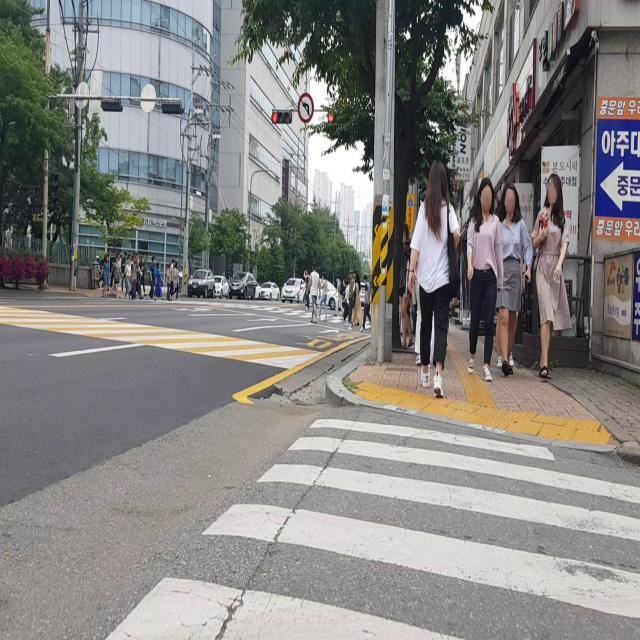횡단보도: (102, 418, 639, 640), (168, 301, 371, 333)
